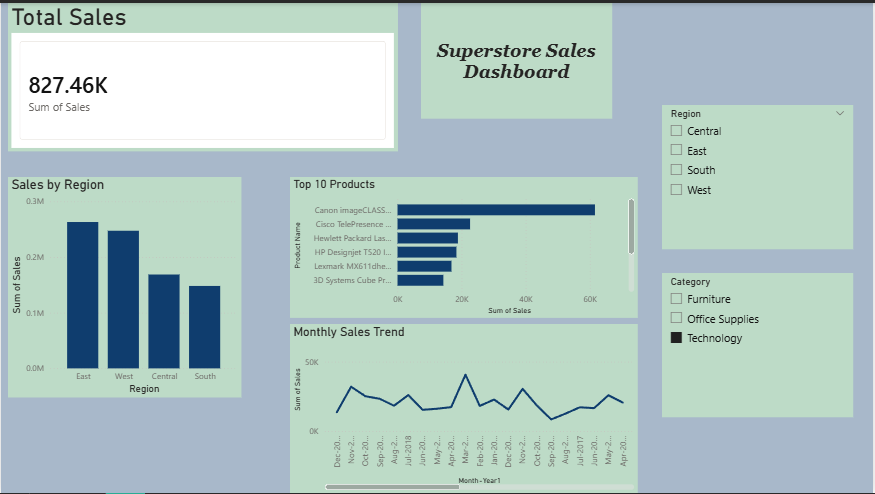

The dashboard page shown, as its layout file describes it:
{"tool":"powerbi","page":{"name":"Page 1","canvas":[1280,720],"ordinal":0},"visuals":[{"type":"cardVisual","title":"Total Sales","fields":{"Data":["Sum(superstore_cleaned xlsx.Sales)"]},"box":[10.1,0,572.8,218.4],"z":0},{"type":"columnChart","title":"Sales by Region","fields":{"Category":["superstore_cleaned xlsx.Region"],"Y":["Sum(superstore_cleaned xlsx.Sales)"]},"box":[10.1,255.3,342.7,324.2],"z":1000},{"type":"lineChart","title":"Monthly Sales Trend","fields":{"Y":["Sum(superstore_cleaned xlsx.Sales)"],"Category":["superstore_cleaned xlsx.Month-Year1"]},"box":[425,472,510.7,248.6],"z":2000},{"type":"barChart","title":"Top 10 Products","fields":{"Category":["superstore_cleaned xlsx.Product Name"],"Y":["Sum(superstore_cleaned xlsx.Sales)"]},"box":[425,255.3,510.7,206.6],"z":3000},{"type":"slicer","fields":{"Values":["superstore_cleaned xlsx.Region"]},"box":[970.9,149.5,280.5,211.7],"z":4000},{"type":"slicer","fields":{"Values":["superstore_cleaned xlsx.Category"]},"box":[970.9,396.4,280.5,211.7],"z":5000},{"type":"textbox","box":[616.5,0,280.5,169.7],"z":6000}]}

Visuals, with their boxes in screenshot pixels (x1, y1, x2, y2), scaled from the page's 1280x720 canvas onto the 875x494 screenshot:
"Total Sales" cardVisual: 7:0:398:150
"Sales by Region" columnChart: 7:175:241:398
"Monthly Sales Trend" lineChart: 291:324:640:493
"Top 10 Products" barChart: 291:175:640:317
slicer - superstore_cleaned xlsx.Region: 664:103:855:248
slicer - superstore_cleaned xlsx.Category: 664:272:855:417
textbox: 421:0:613:116
